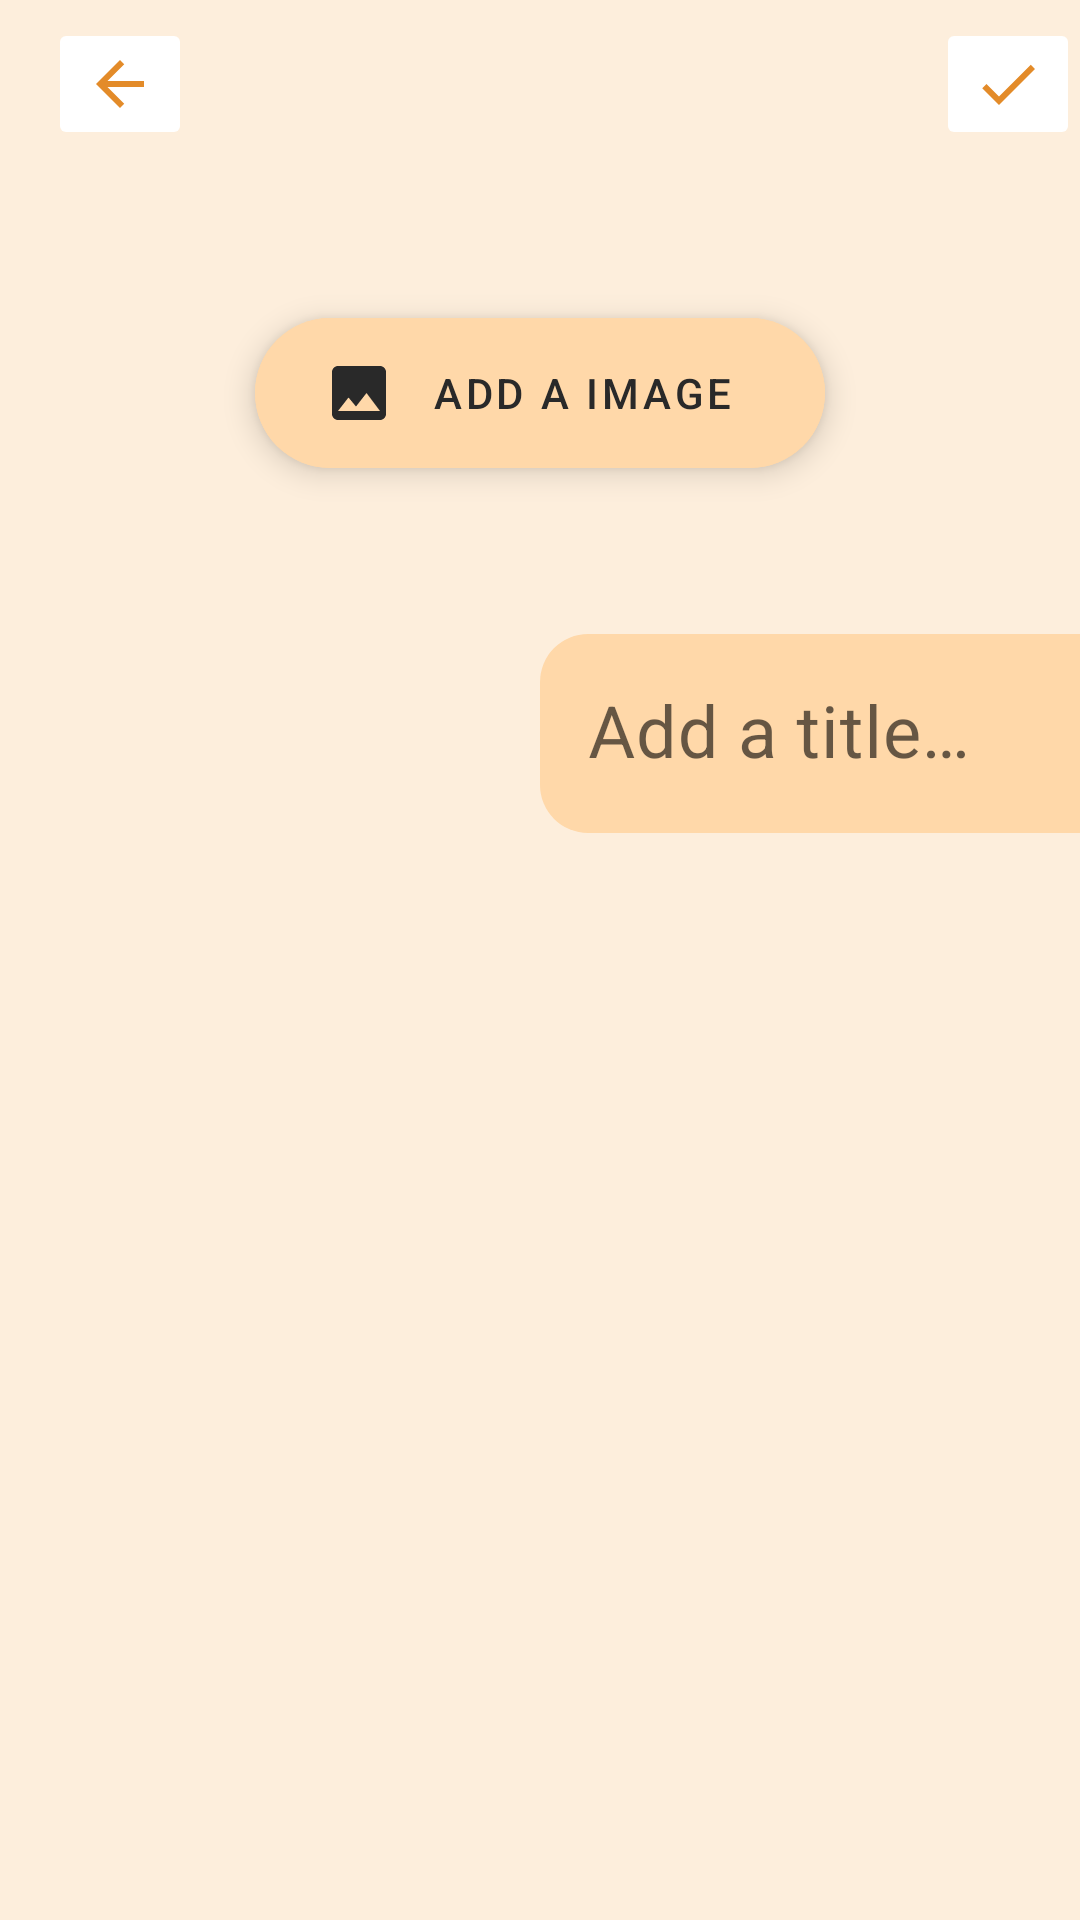

Where icons sit on this 1080 × 1920 app screen, as (x1, y1, x2, y2):
arrow back: (60, 36, 180, 132)
check: (948, 36, 1068, 132)
